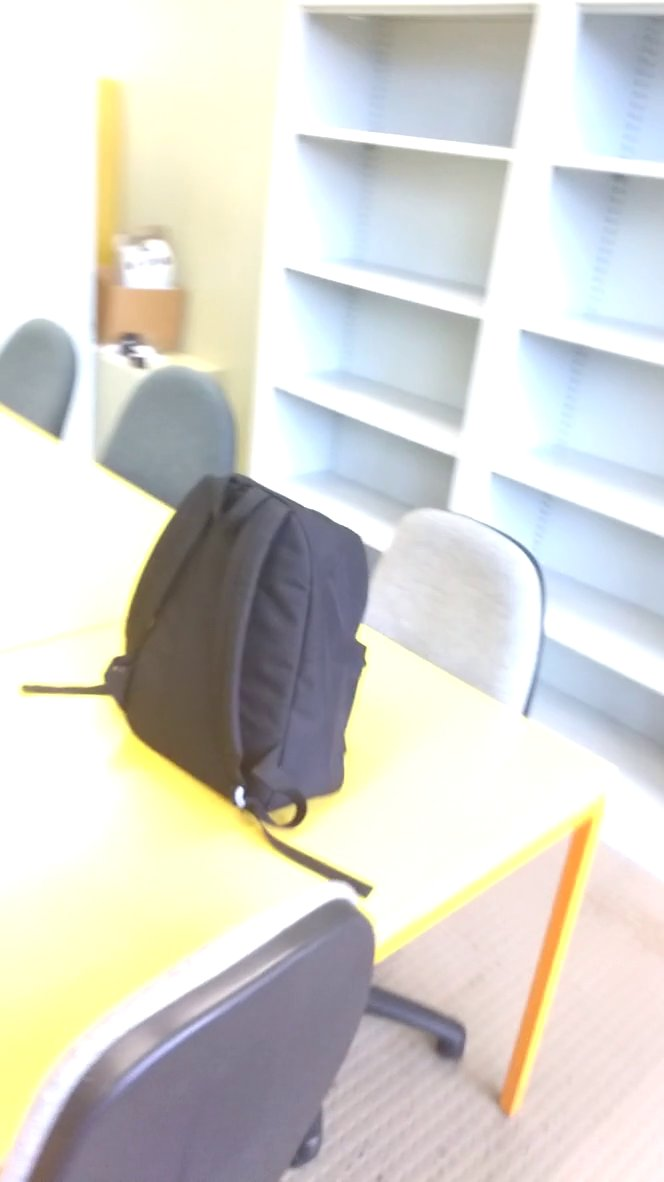bag: (101, 458, 376, 836)
chair: (1, 876, 391, 1182), (343, 486, 584, 762), (94, 356, 270, 550), (1, 311, 82, 456)
